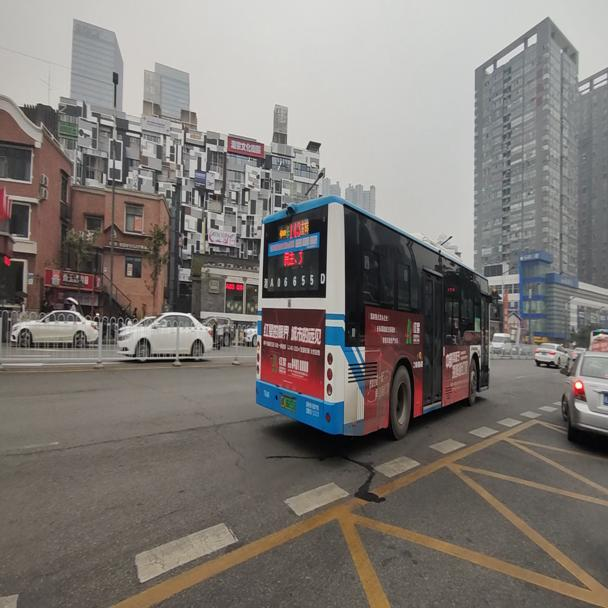bus: (253, 193, 491, 439)
screen: (289, 218, 301, 238)
